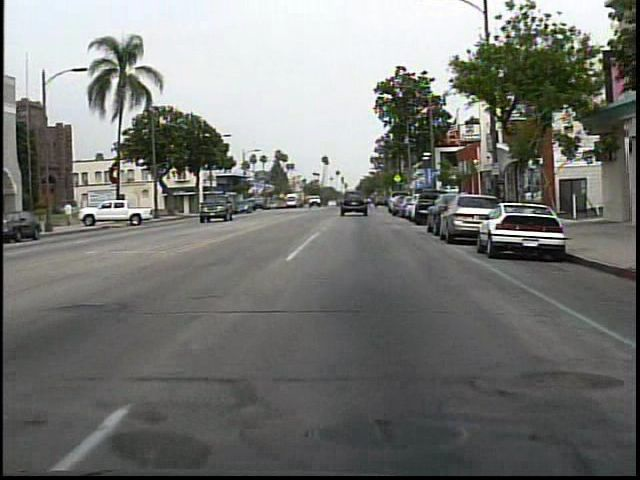person: (367, 188, 381, 217), (65, 198, 77, 229)
